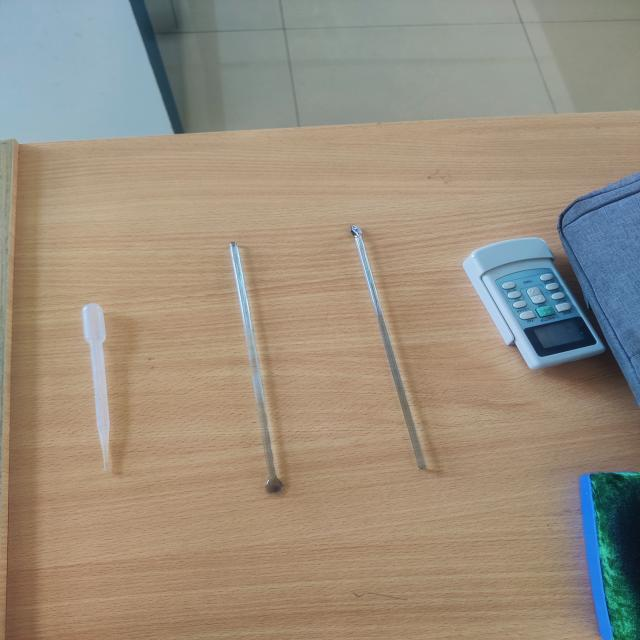Glass_Rod: (336, 189, 472, 499), (197, 211, 311, 527)
Pipette: (18, 250, 146, 497)
